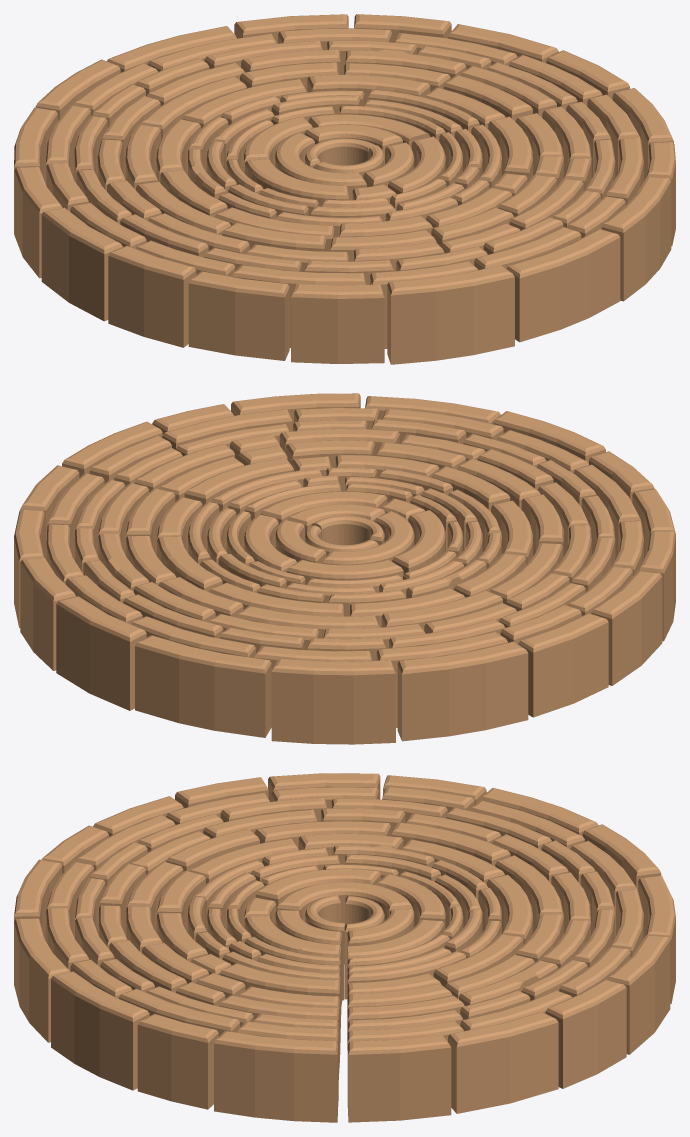
The model's file is Centro.fbx.
The picture shows the model from 3 angles, top to bottom: view 1: azimuth 30°, elevation 25°; view 2: azimuth 150°, elevation 25°; view 3: azimuth 270°, elevation 25°; orthographic projection.
Parts seen in each view (by area): view 1: Centro; view 2: Centro; view 3: Centro.
Part boxes in pixels (bbox=[...]): Centro: bbox=[14, 14, 675, 364]; Centro: bbox=[14, 393, 675, 744]; Centro: bbox=[14, 773, 675, 1122].
Bounding box in the file's own units: 1688 × 210 × 1690.
